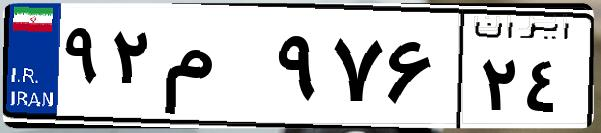2: (475, 38, 525, 113), (110, 28, 158, 98)
4: (525, 38, 570, 115)
6: (385, 28, 445, 110)
7: (330, 28, 385, 110)
9: (270, 28, 330, 110), (57, 26, 110, 100)
م: (158, 20, 270, 120)
